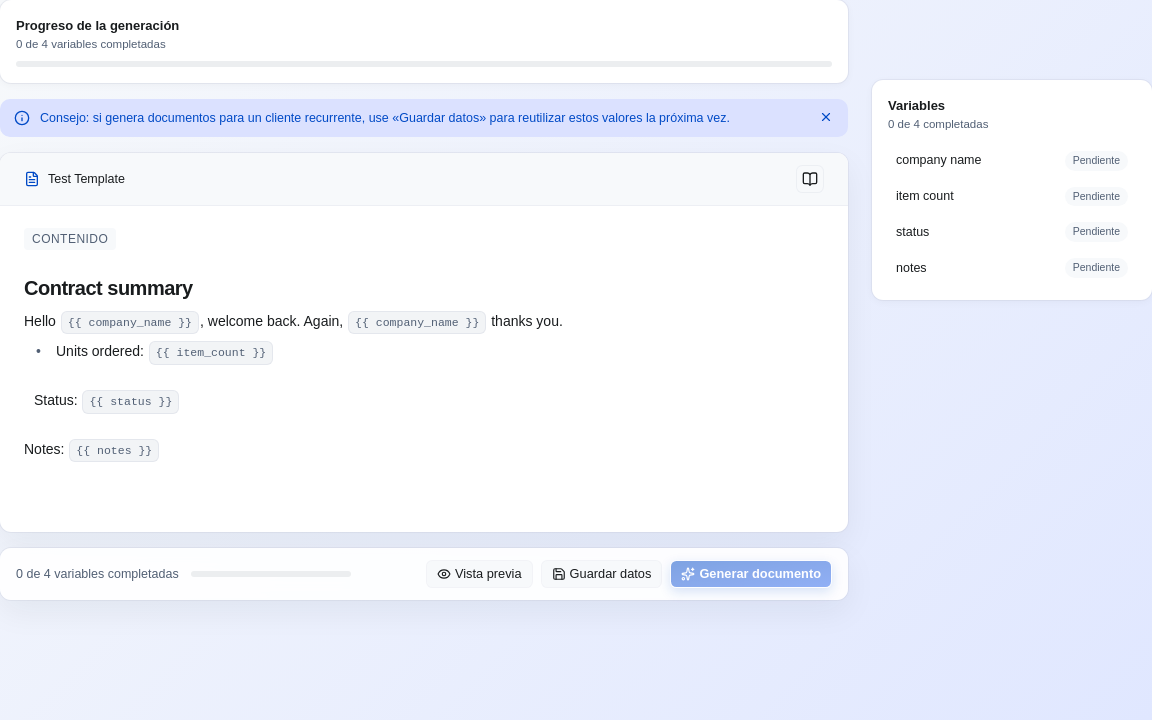
Scenario: FullDocumentEditor — inline pill editing › 6. select variable renders a combobox; selecting an option commits it
Click the button "{{ status }}": (131, 402) [82, 390, 179, 414]
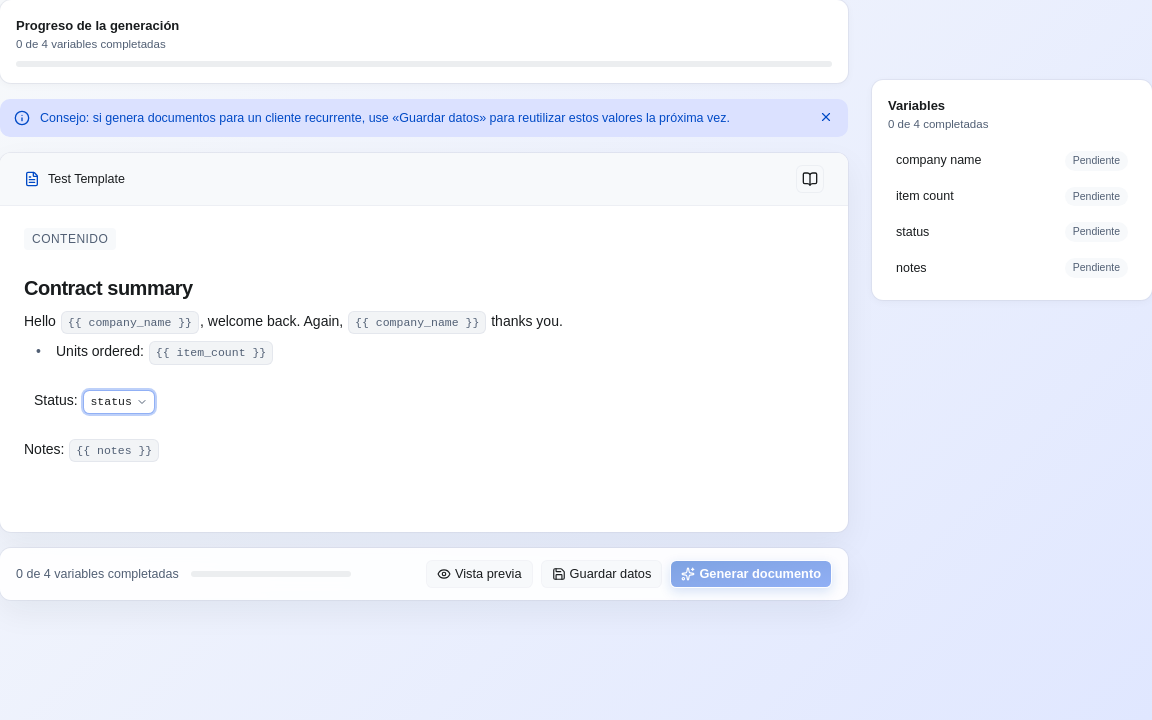
Click the dropdown: (119, 402) [84, 390, 155, 414]
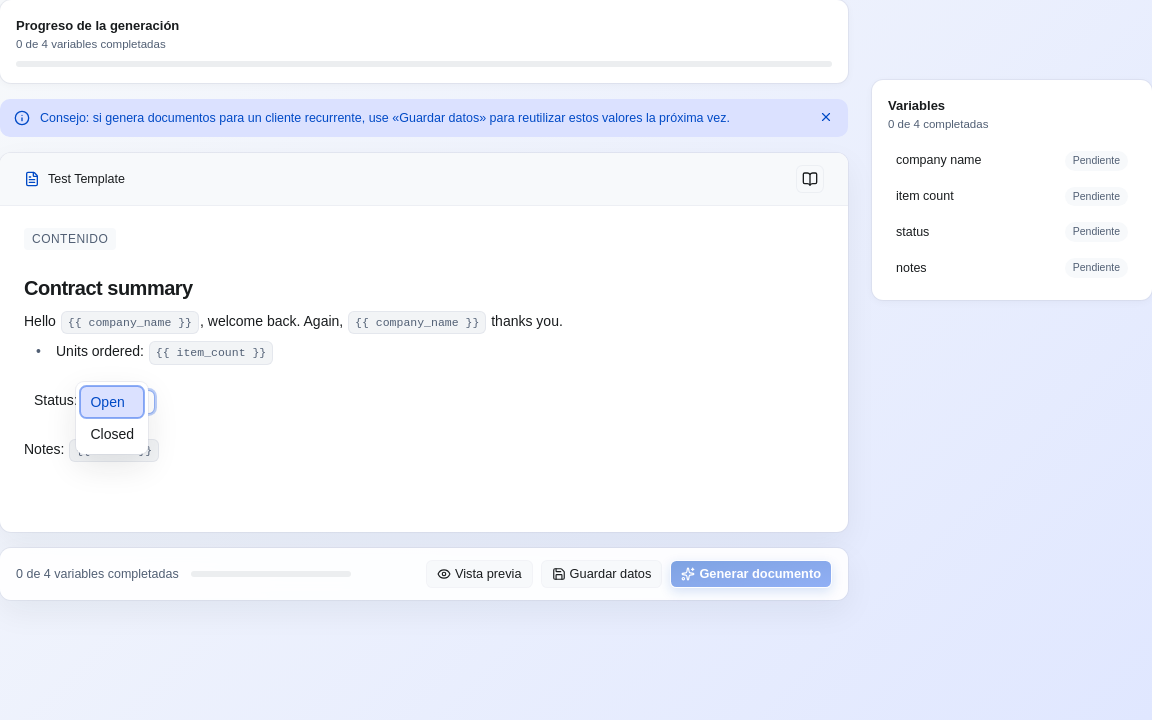
Click the option "Open": (112, 402) [80, 386, 144, 418]
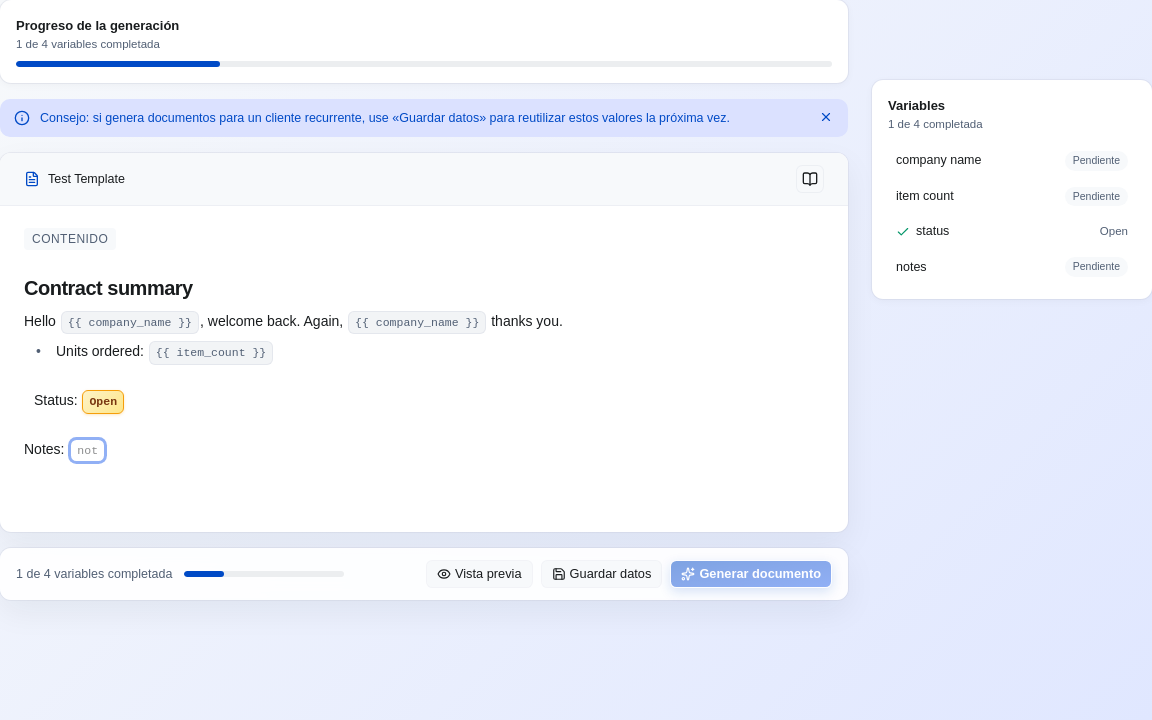
Check: the number of buttons "Open" is 2, box [82, 390, 124, 414]; [1100, 223, 1128, 240]
Check: the dropdown is gone
